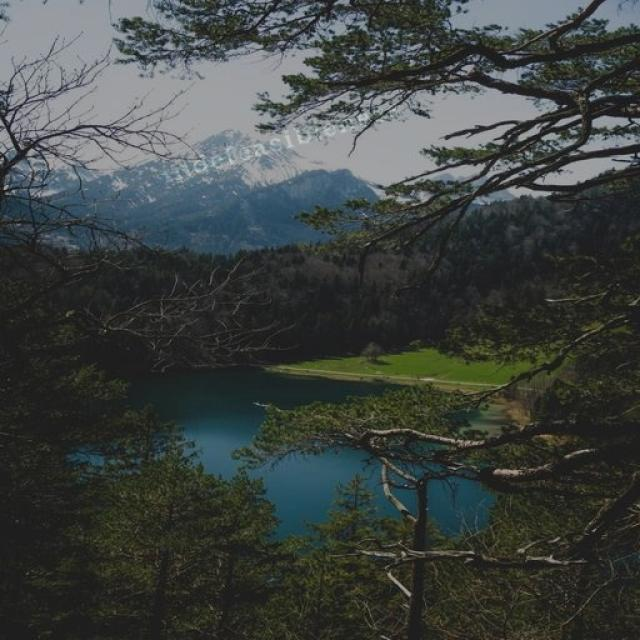watermark: (156, 95, 403, 186)
